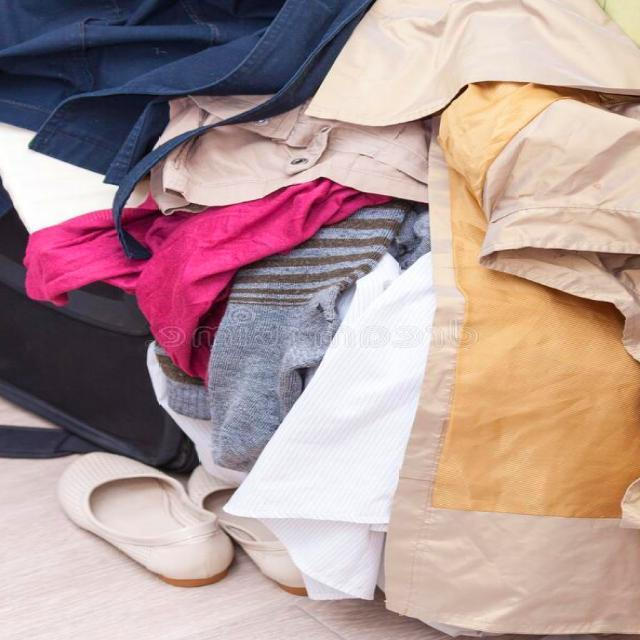clothes: (331, 0, 640, 640), (0, 2, 328, 411)
